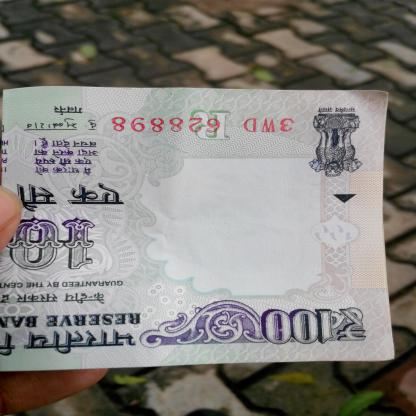Old100Front: (0, 83, 398, 373)
